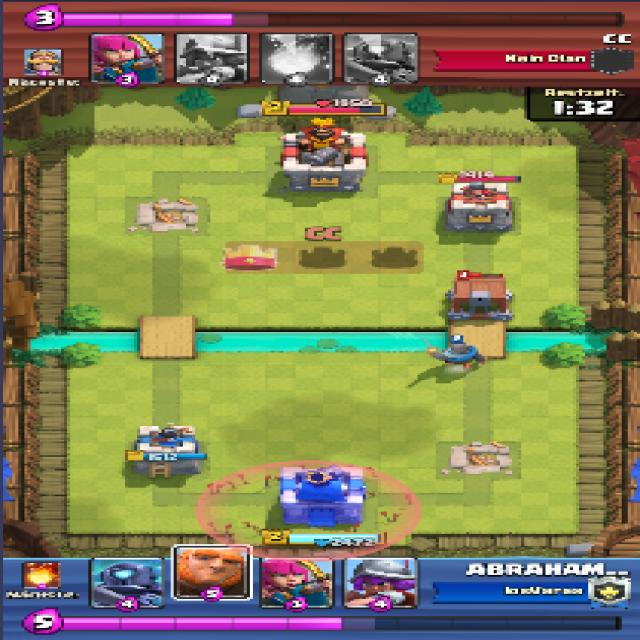Enemy-Arrow: (204, 462, 422, 558)
Player-GoblinCage: (444, 273, 517, 322)
Player-Knight: (422, 338, 486, 371)
